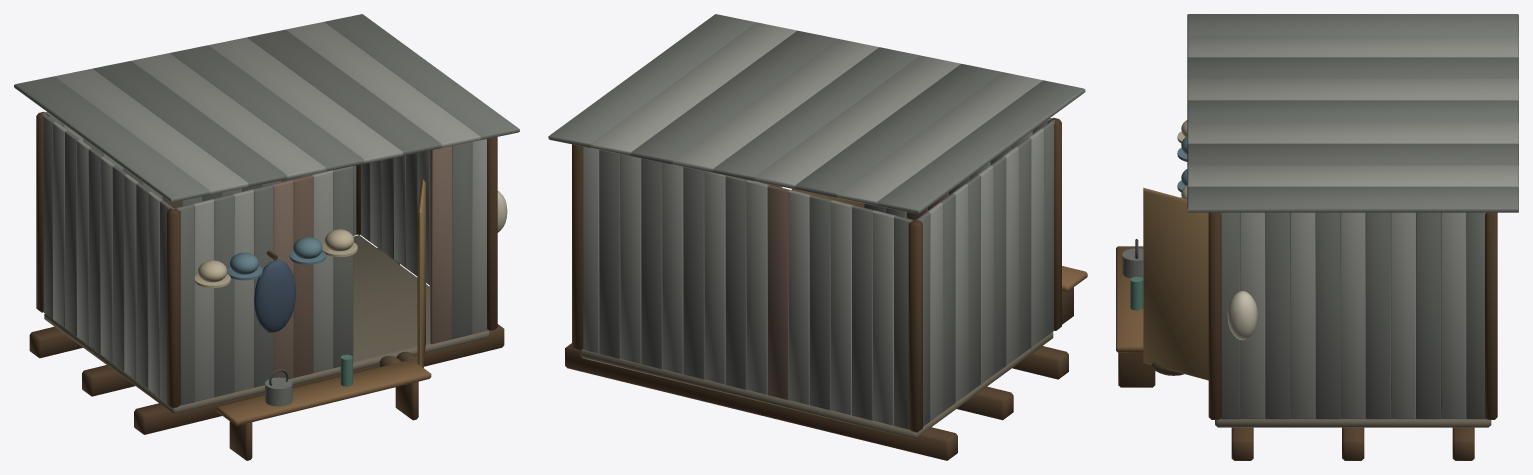
Rendered from change_house_a_lod1.glb.
3 renders of one model, left to right at view 1: azimuth 30°, elevation 25°; view 2: azimuth 150°, elevation 25°; view 3: azimuth 270°, elevation 25°, orthographic. The views are drawn at different scales.
Parts seen in each view (by area): view 1: Surface.001; view 2: Surface.001; view 3: Surface.001.
Part boxes in pixels (<box>): Surface.001: <box>14,14,519,460</box>; Surface.001: <box>548,14,1087,460</box>; Surface.001: <box>1116,14,1518,460</box>.
Bounding box in the file's own units: 4.87 × 3.18 × 4.38.
